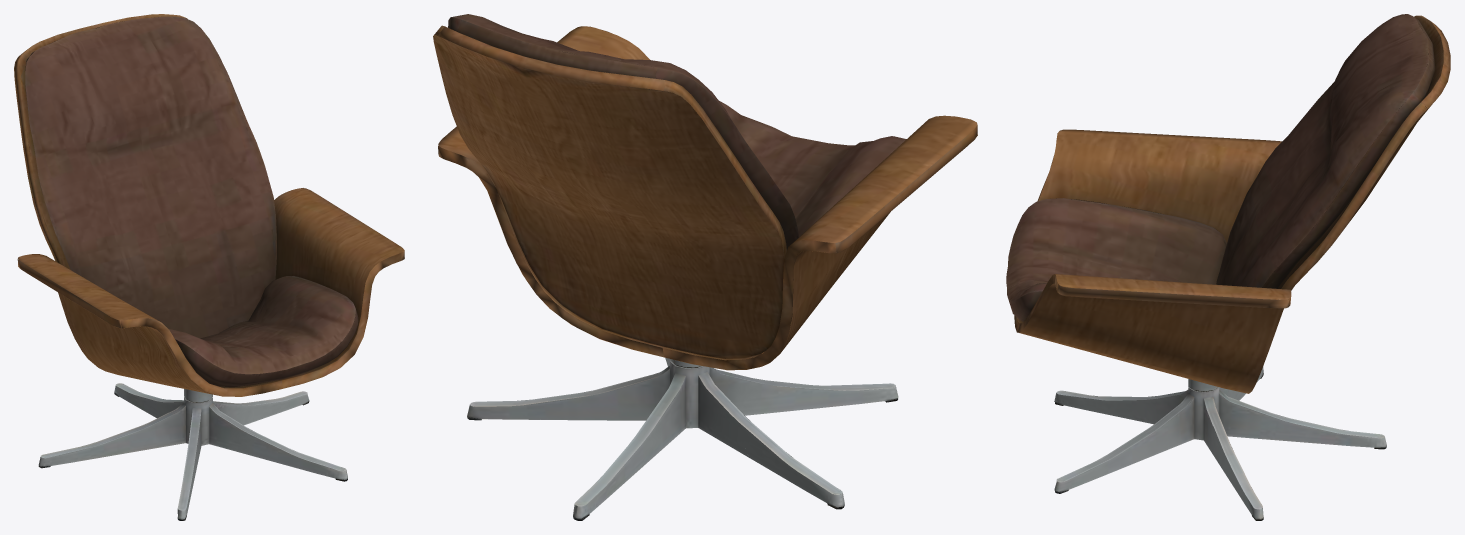
The model's file is ph_mid_century_lounge_chair.glb.
3 renders of one model, left to right at view 1: azimuth 30°, elevation 25°; view 2: azimuth 150°, elevation 25°; view 3: azimuth 270°, elevation 25°, orthographic. The views are drawn at different scales.
Visible parts, largest first — view 1: mid_century_lounge_chair; view 2: mid_century_lounge_chair; view 3: mid_century_lounge_chair.
Boxes of the visible parts, left/top/right/bottom form: mid_century_lounge_chair: left=14, top=14, right=404, bottom=520; mid_century_lounge_chair: left=433, top=14, right=977, bottom=520; mid_century_lounge_chair: left=1006, top=14, right=1450, bottom=520.
Bounding box in the file's own units: 1.01 × 1.17 × 1.19.
1 material, 1 textured.
